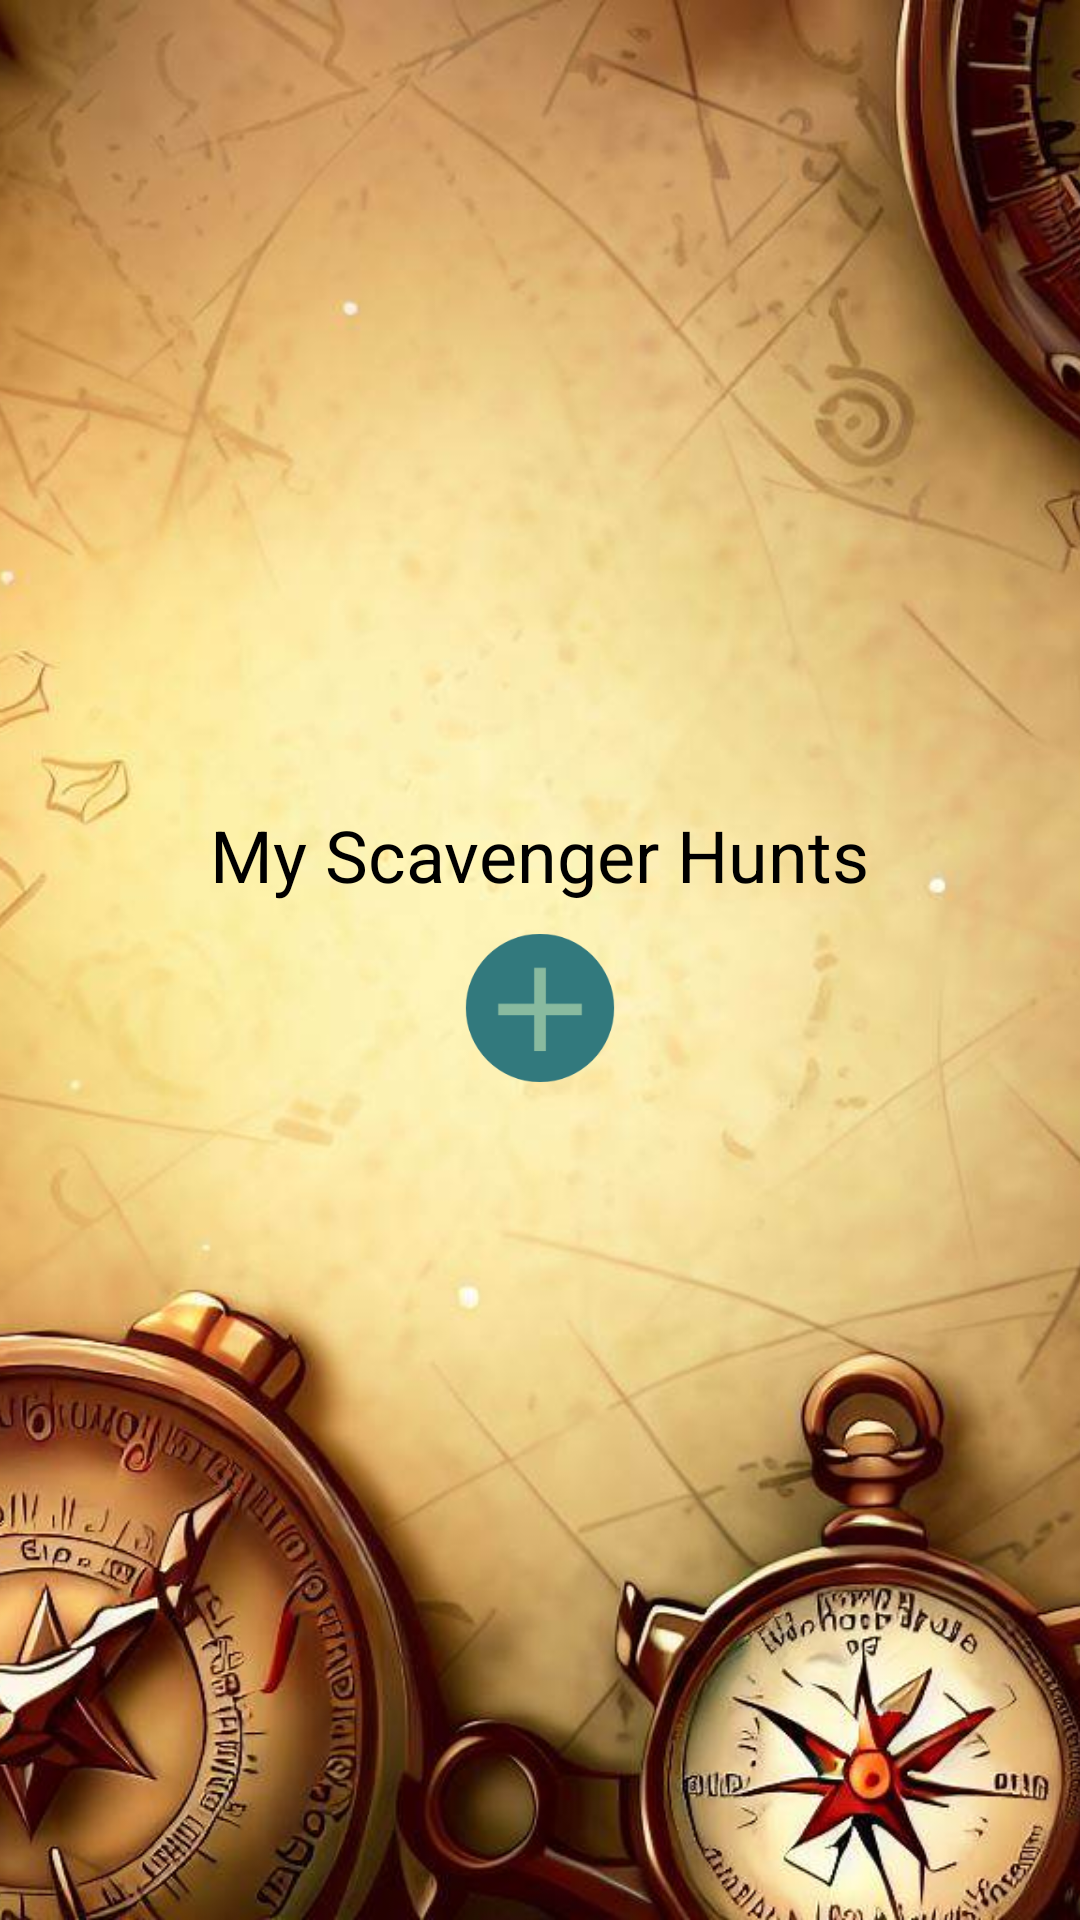

Icons on this 1080 x 1920 Android screen, each with its box as (x1, y1, x2, y2):
newhuntimage: (466, 934, 614, 1082)
